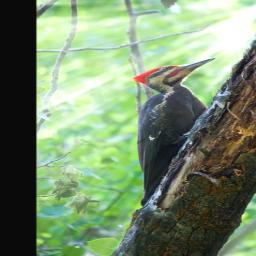Woodpecker: (130, 57, 219, 207)
